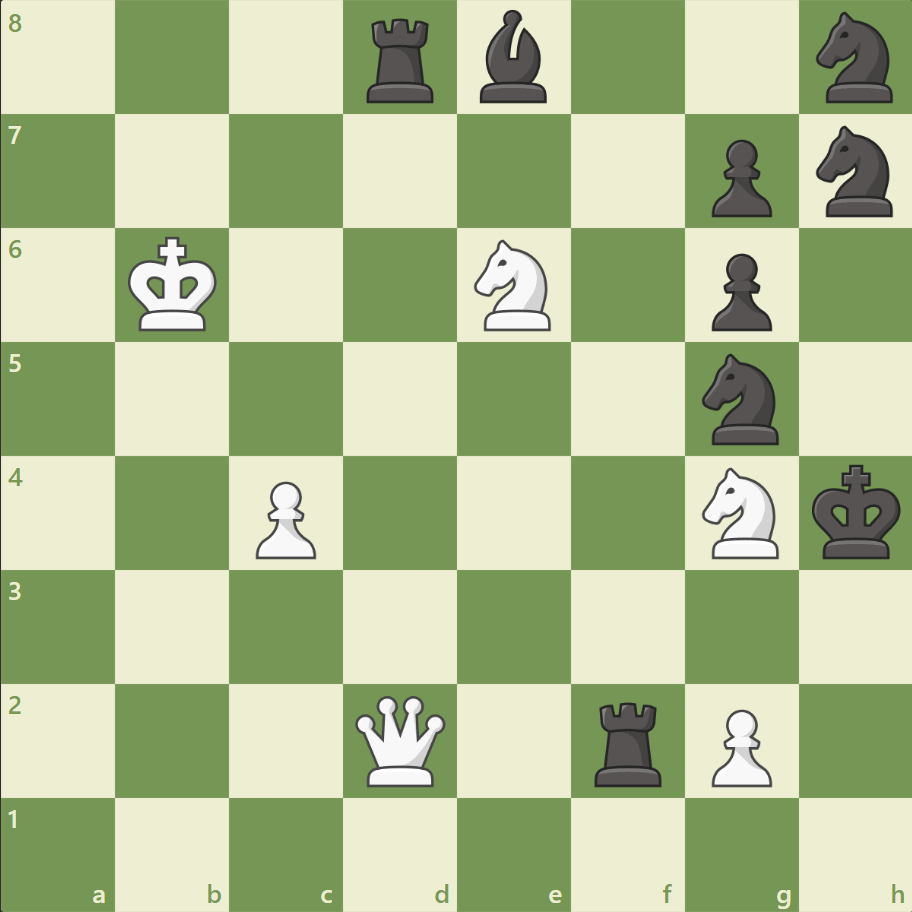K: (124, 231, 224, 339)
N: (465, 234, 562, 337), (692, 461, 789, 564)
P: (247, 473, 322, 564), (701, 700, 776, 791)
Q: (351, 690, 450, 789)
b: (471, 6, 555, 109)
k: (806, 458, 906, 566)
n: (806, 7, 903, 110), (806, 121, 903, 223), (692, 348, 789, 450)
p: (701, 132, 776, 223), (701, 246, 776, 337)
r: (587, 693, 670, 790), (360, 12, 442, 109)
